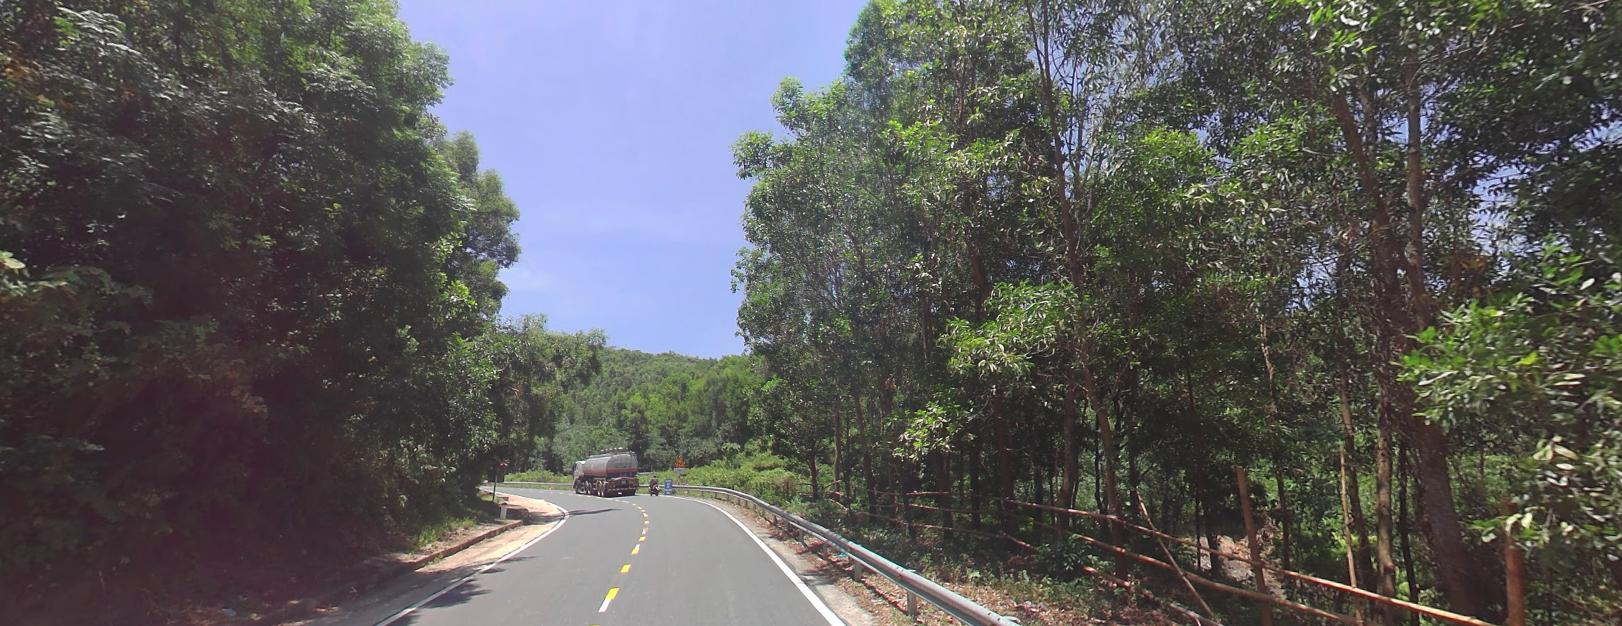Nguy hiem: (675, 456, 685, 465)
